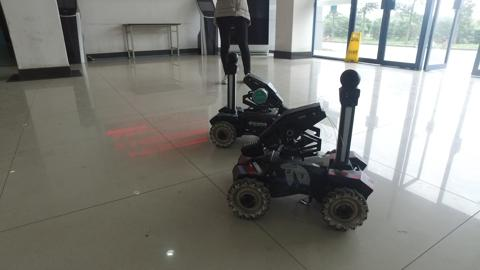chariot: (221, 69, 374, 232), (205, 52, 290, 151)
